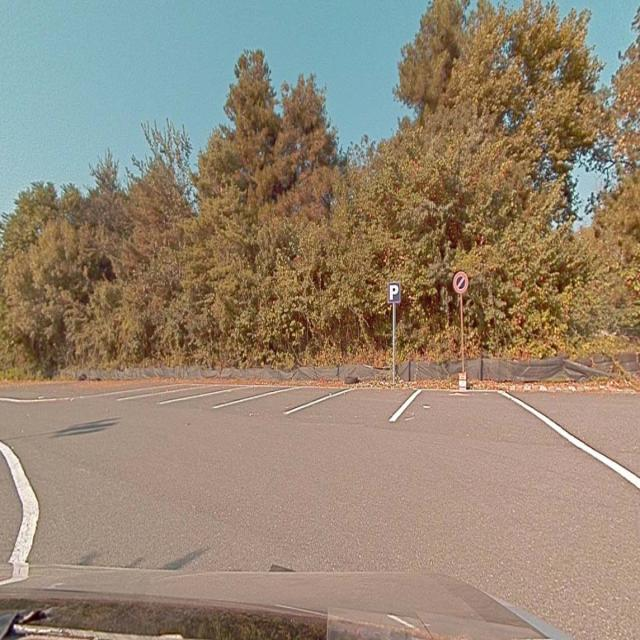park: (388, 283, 400, 302)
parkyasak: (454, 273, 467, 291)
